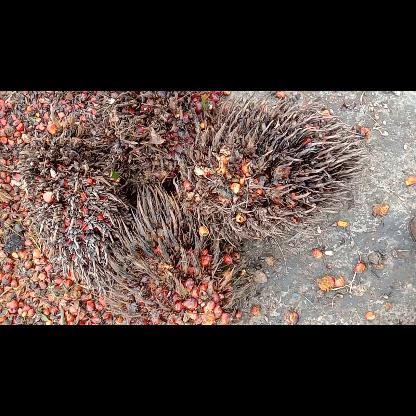Terlalu masak: (172, 91, 374, 251), (13, 108, 144, 304), (97, 178, 257, 324), (82, 91, 224, 193)
